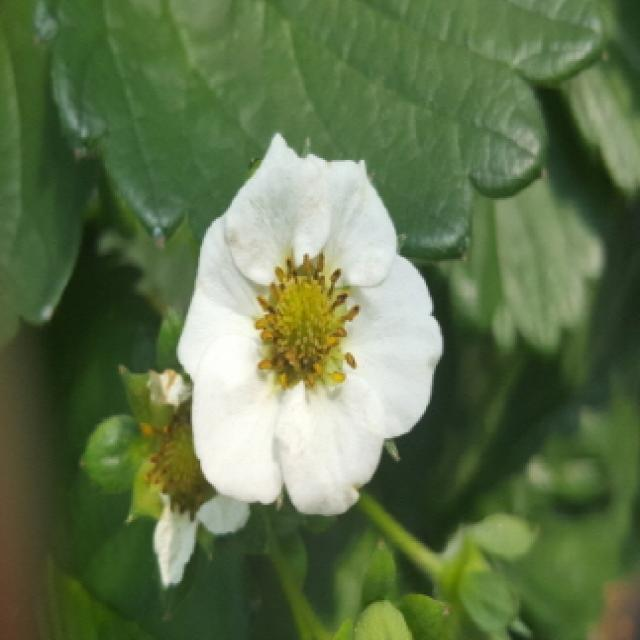Blossom Blight: (248, 243, 366, 398)
